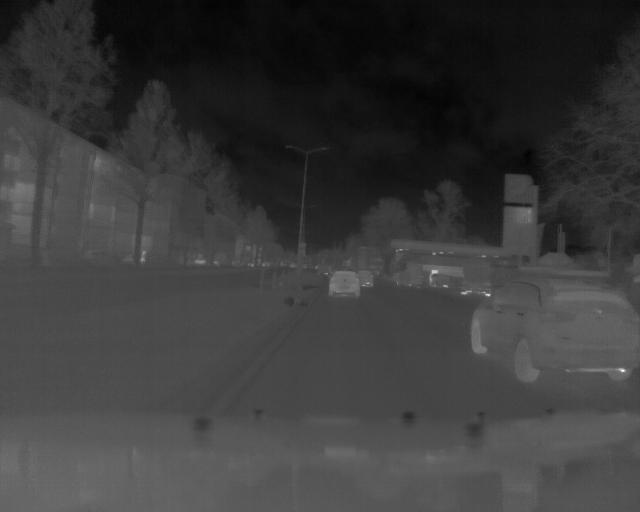car: (469, 272, 639, 385), (327, 269, 362, 300), (353, 268, 376, 288)
